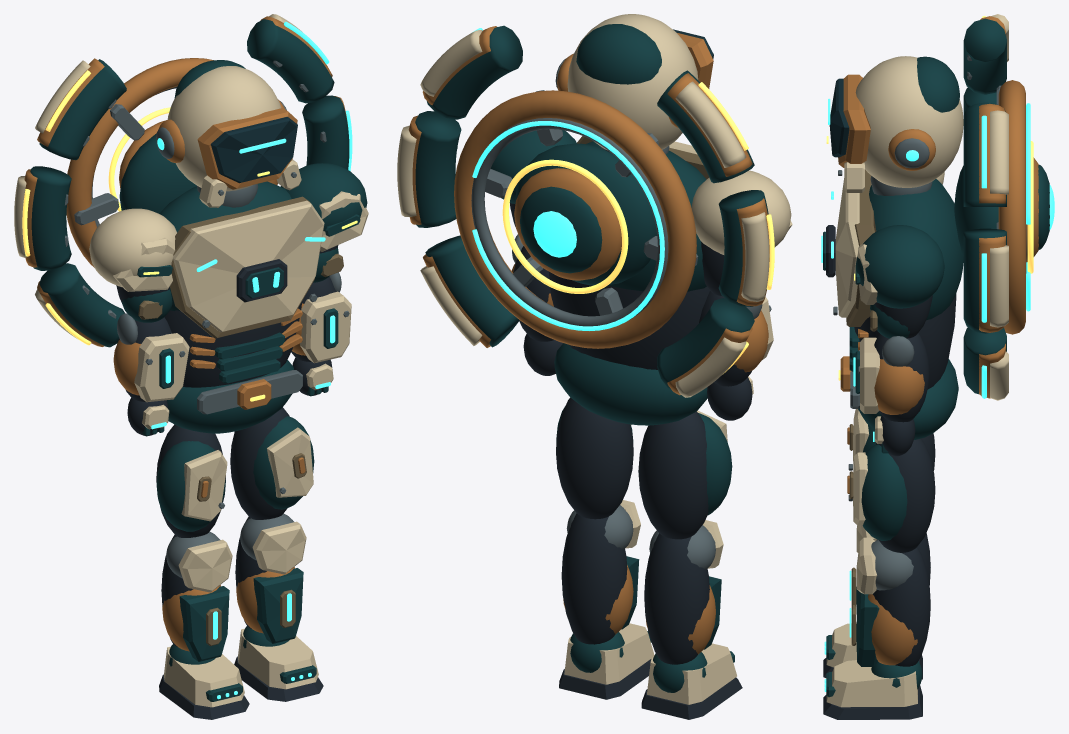
Rendered from magnet-blender.glb.
The picture shows the model from 3 angles, left to right: view 1: azimuth 30°, elevation 25°; view 2: azimuth 150°, elevation 25°; view 3: azimuth 270°, elevation 25°; orthographic projection. The views are drawn at different scales.
Parts seen in each view (by area): view 1: Torso_Shell, Helmet_Shell, Yoke_Shell, Shin_R_Shell, Shin_L_Shell, UpperArm_L_Shell, Thigh_R_Shell, Thigh_L_Shell, Pole_L2_Shell, Forearm_L_Shell, Pole_L1_Shell, UpperArm_R_Shell (+8 smaller); view 2: Yoke_Shell, Torso_Shell, Helmet_Shell, Thigh_L_Shell, Shin_L_Shell, Shin_R_Shell, Thigh_R_Shell, Pole_R1_Shell, Pole_R2_Shell, Pole_R0_Shell, Pole_L0_Shell, Pole_L1_Shell (+9 smaller); view 3: Torso_Shell, Helmet_Shell, Yoke_Shell, Shin_R_Shell, UpperArm_R_Shell, Thigh_R_Shell, Forearm_R_Shell, Boot_R_Shell, Pole_R2_Shell, Pole_R1_Shell, Pole_L2_Shell, Pole_R0_Shell (+5 smaller).
Boxes of the visible parts, x1,y1,x2,y2 form: Torso_Shell: (159,181,325,433); Helmet_Shell: (156,60,301,207); Yoke_Shell: (66,58,277,267); Shin_R_Shell: (235,513,306,643); Shin_L_Shell: (161,531,232,661); UpperArm_L_Shell: (89,208,176,322); Thigh_R_Shell: (230,407,314,519); Thigh_L_Shell: (156,424,227,537); Pole_L2_Shell: (35,58,126,160); Forearm_L_Shell: (113,313,189,402); Pole_L1_Shell: (14,166,71,270); UpperArm_R_Shell: (280,163,368,282); Yoke_Shell: (454,90,698,348); Torso_Shell: (548,136,709,425); Helmet_Shell: (555,14,713,150); Thigh_L_Shell: (638,410,732,539); Shin_L_Shell: (644,520,723,664); Shin_R_Shell: (561,500,640,644); Thigh_R_Shell: (556,397,633,519); Pole_R1_Shell: (397,111,461,227); Pole_R2_Shell: (420,25,522,119); Pole_R0_Shell: (420,235,519,347); Pole_L0_Shell: (657,298,754,397); Pole_L1_Shell: (718,190,774,306); Torso_Shell: (821,169,963,439); Helmet_Shell: (826,56,963,192); Yoke_Shell: (954,80,1054,334); Shin_R_Shell: (849,537,930,666); UpperArm_R_Shell: (854,225,944,338); Thigh_R_Shell: (847,438,935,552); Forearm_R_Shell: (853,333,929,422); Boot_R_Shell: (823,660,922,719); Pole_R2_Shell: (963,102,1008,206); Pole_R1_Shell: (963,228,1008,333); Pole_L2_Shell: (963,14,1008,94); Pole_R0_Shell: (963,327,1008,400).
Bounding box in the file's own units: 1.18 × 2.08 × 0.701.
